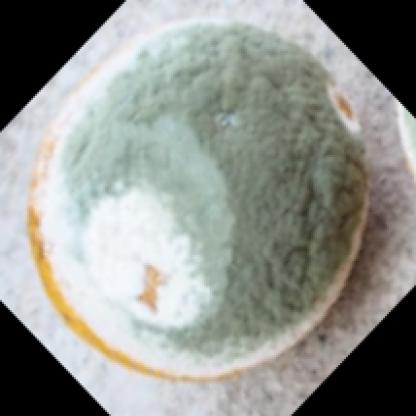rotten: (26, 22, 368, 380)
